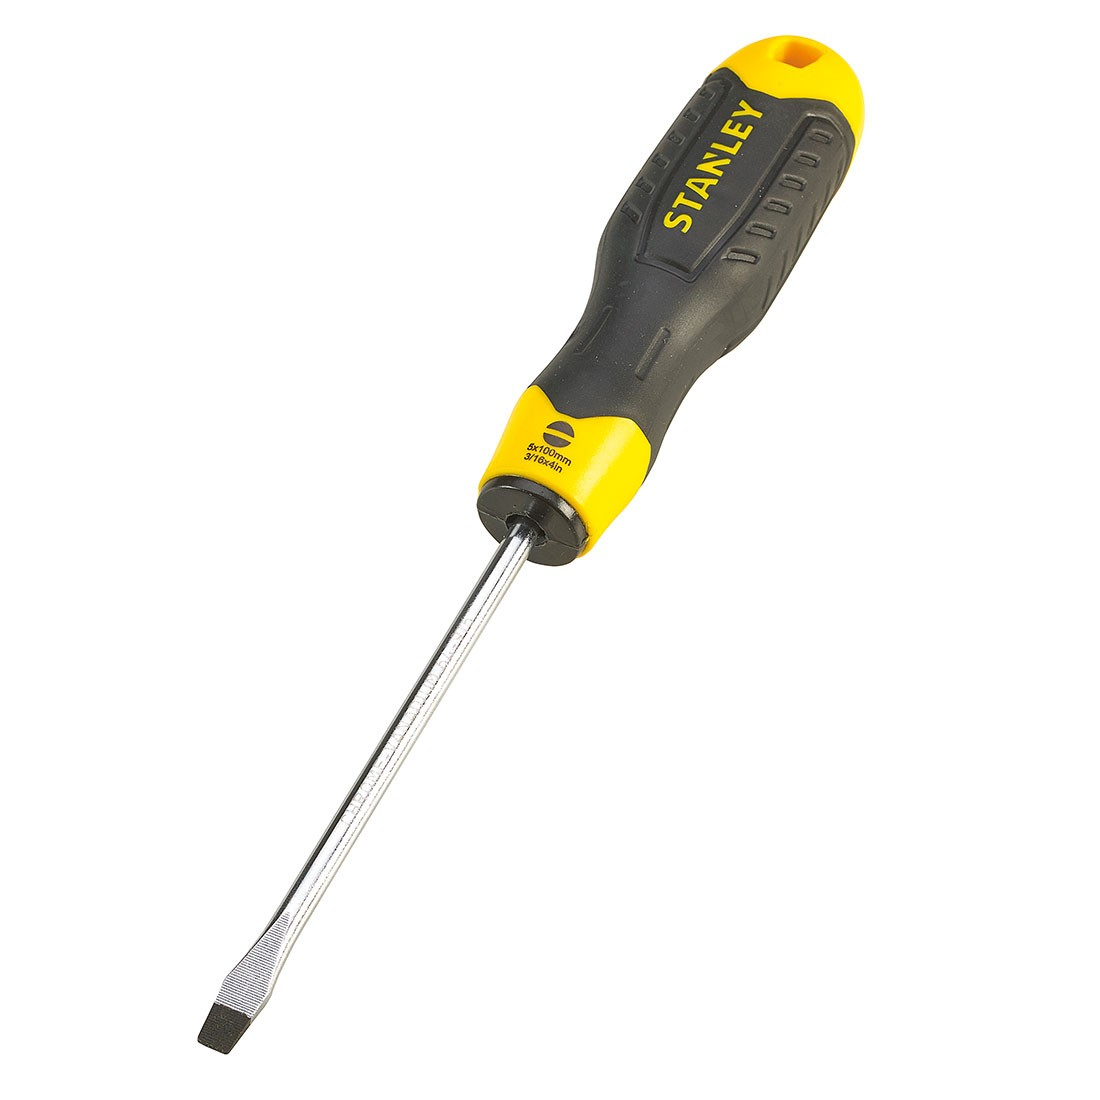screwdriver: (192, 31, 869, 1054)
